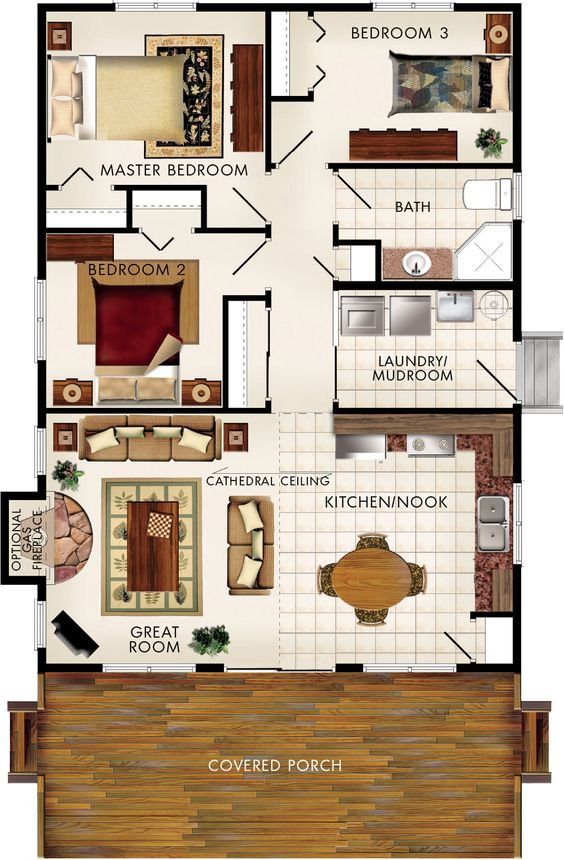room: (39, 4, 271, 190), (37, 227, 269, 413), (266, 3, 521, 168)
window: (33, 281, 49, 361), (101, 664, 196, 675), (362, 663, 457, 674), (512, 483, 524, 566), (114, 1, 197, 12), (370, 1, 453, 11), (32, 425, 48, 476), (34, 600, 46, 650)
